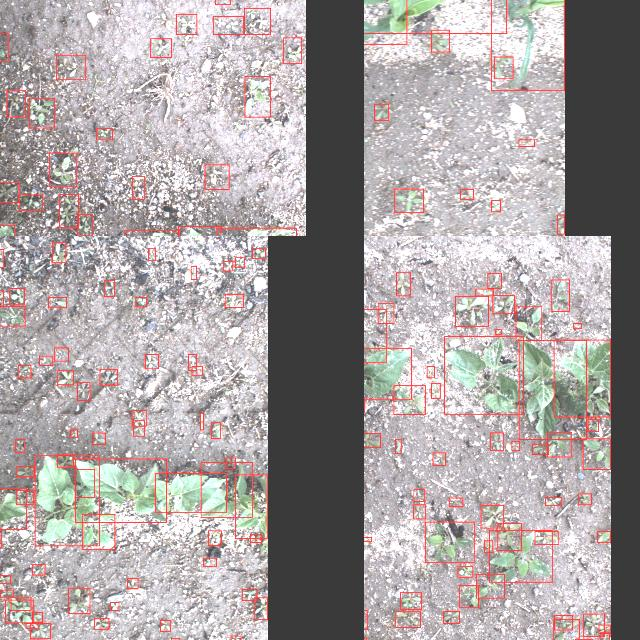crop: (519, 340, 587, 440), (491, 0, 565, 90), (444, 336, 524, 414), (34, 456, 100, 546), (75, 459, 167, 523), (554, 339, 610, 416), (155, 473, 227, 512), (202, 462, 252, 518), (364, 348, 412, 399), (236, 475, 268, 539), (0, 488, 26, 529)
weed: (490, 530, 552, 582), (424, 522, 474, 562), (83, 514, 115, 550), (364, 309, 385, 363), (245, 76, 271, 118), (456, 296, 488, 326), (48, 153, 76, 187), (516, 307, 542, 341), (583, 438, 611, 469), (394, 386, 424, 414), (56, 54, 86, 80), (30, 98, 54, 128), (394, 189, 424, 213), (245, 8, 271, 34), (476, 574, 504, 598), (205, 164, 229, 190), (548, 432, 572, 458), (498, 524, 522, 550), (5, 600, 33, 622), (60, 195, 78, 228), (68, 588, 90, 614), (481, 504, 504, 528), (554, 619, 580, 640), (214, 16, 244, 34), (552, 280, 570, 310), (76, 469, 94, 497), (0, 306, 25, 326), (7, 90, 26, 116), (150, 38, 172, 58), (176, 14, 198, 34), (494, 57, 514, 79), (584, 614, 604, 636), (284, 38, 302, 62), (459, 586, 478, 608), (432, 30, 450, 52), (493, 296, 515, 314), (18, 195, 42, 211), (396, 612, 420, 628), (401, 592, 422, 610), (0, 182, 18, 202), (396, 272, 410, 296), (378, 303, 394, 323), (78, 214, 92, 236), (254, 598, 268, 620), (52, 243, 66, 263), (30, 624, 50, 638), (132, 177, 144, 200), (536, 532, 558, 544), (76, 382, 90, 400), (100, 370, 118, 384), (225, 294, 243, 308), (16, 490, 34, 504), (555, 616, 573, 630), (11, 598, 31, 610), (491, 433, 504, 451), (0, 33, 8, 61), (374, 104, 388, 120), (10, 288, 24, 304), (57, 371, 73, 385), (208, 530, 222, 546), (132, 410, 146, 426), (364, 433, 379, 447), (488, 274, 502, 288), (432, 452, 446, 466), (96, 128, 112, 140), (146, 354, 158, 370), (57, 455, 73, 467), (443, 611, 459, 623), (16, 466, 34, 476), (48, 298, 66, 308), (92, 433, 106, 445), (54, 348, 68, 360), (458, 566, 472, 578), (413, 505, 425, 519), (134, 420, 144, 436), (104, 281, 114, 297), (242, 590, 258, 600), (546, 496, 562, 506), (532, 444, 548, 454), (18, 366, 30, 378), (475, 288, 493, 296), (460, 189, 474, 199), (94, 619, 108, 629), (252, 249, 266, 259), (39, 356, 53, 366), (578, 494, 592, 504), (212, 423, 220, 439), (189, 354, 197, 370), (432, 384, 441, 398), (449, 498, 463, 507), (32, 565, 44, 575), (160, 620, 170, 632), (588, 419, 598, 431), (598, 532, 610, 542), (414, 489, 424, 501), (599, 624, 611, 634), (558, 214, 564, 233), (492, 200, 501, 212), (136, 297, 146, 307), (226, 458, 236, 468), (235, 257, 245, 267), (192, 366, 202, 376), (128, 579, 138, 589), (32, 612, 42, 622), (519, 140, 535, 146), (250, 534, 262, 542), (148, 248, 156, 260), (16, 440, 24, 452), (204, 558, 216, 566), (0, 590, 12, 598), (485, 540, 493, 552), (427, 367, 435, 378), (395, 439, 401, 453), (0, 576, 10, 584), (224, 261, 232, 271), (600, 632, 610, 640), (512, 442, 520, 451), (70, 429, 78, 437), (110, 602, 118, 610), (215, 0, 230, 4), (192, 266, 196, 280), (200, 412, 203, 430), (231, 635, 241, 640), (0, 291, 3, 307), (26, 624, 38, 628), (364, 536, 371, 541), (574, 324, 582, 328), (495, 330, 501, 334)
